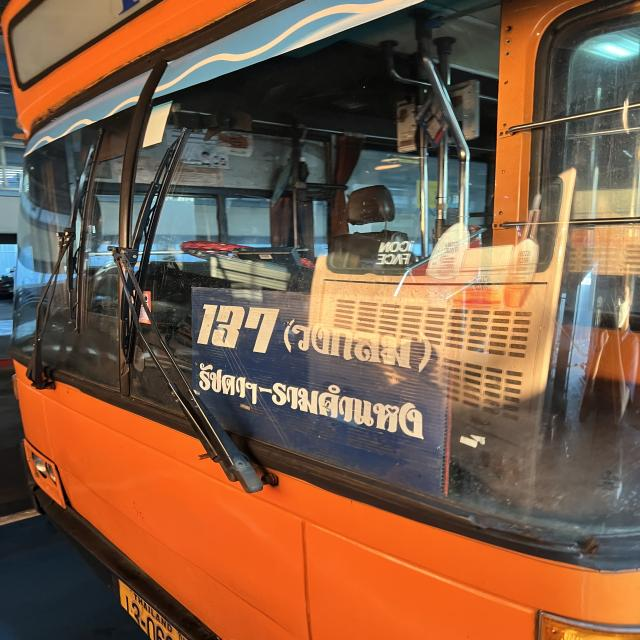BMTA-bus: (6, 0, 640, 640)
Destination-Sign-Normal: (183, 282, 450, 492)
